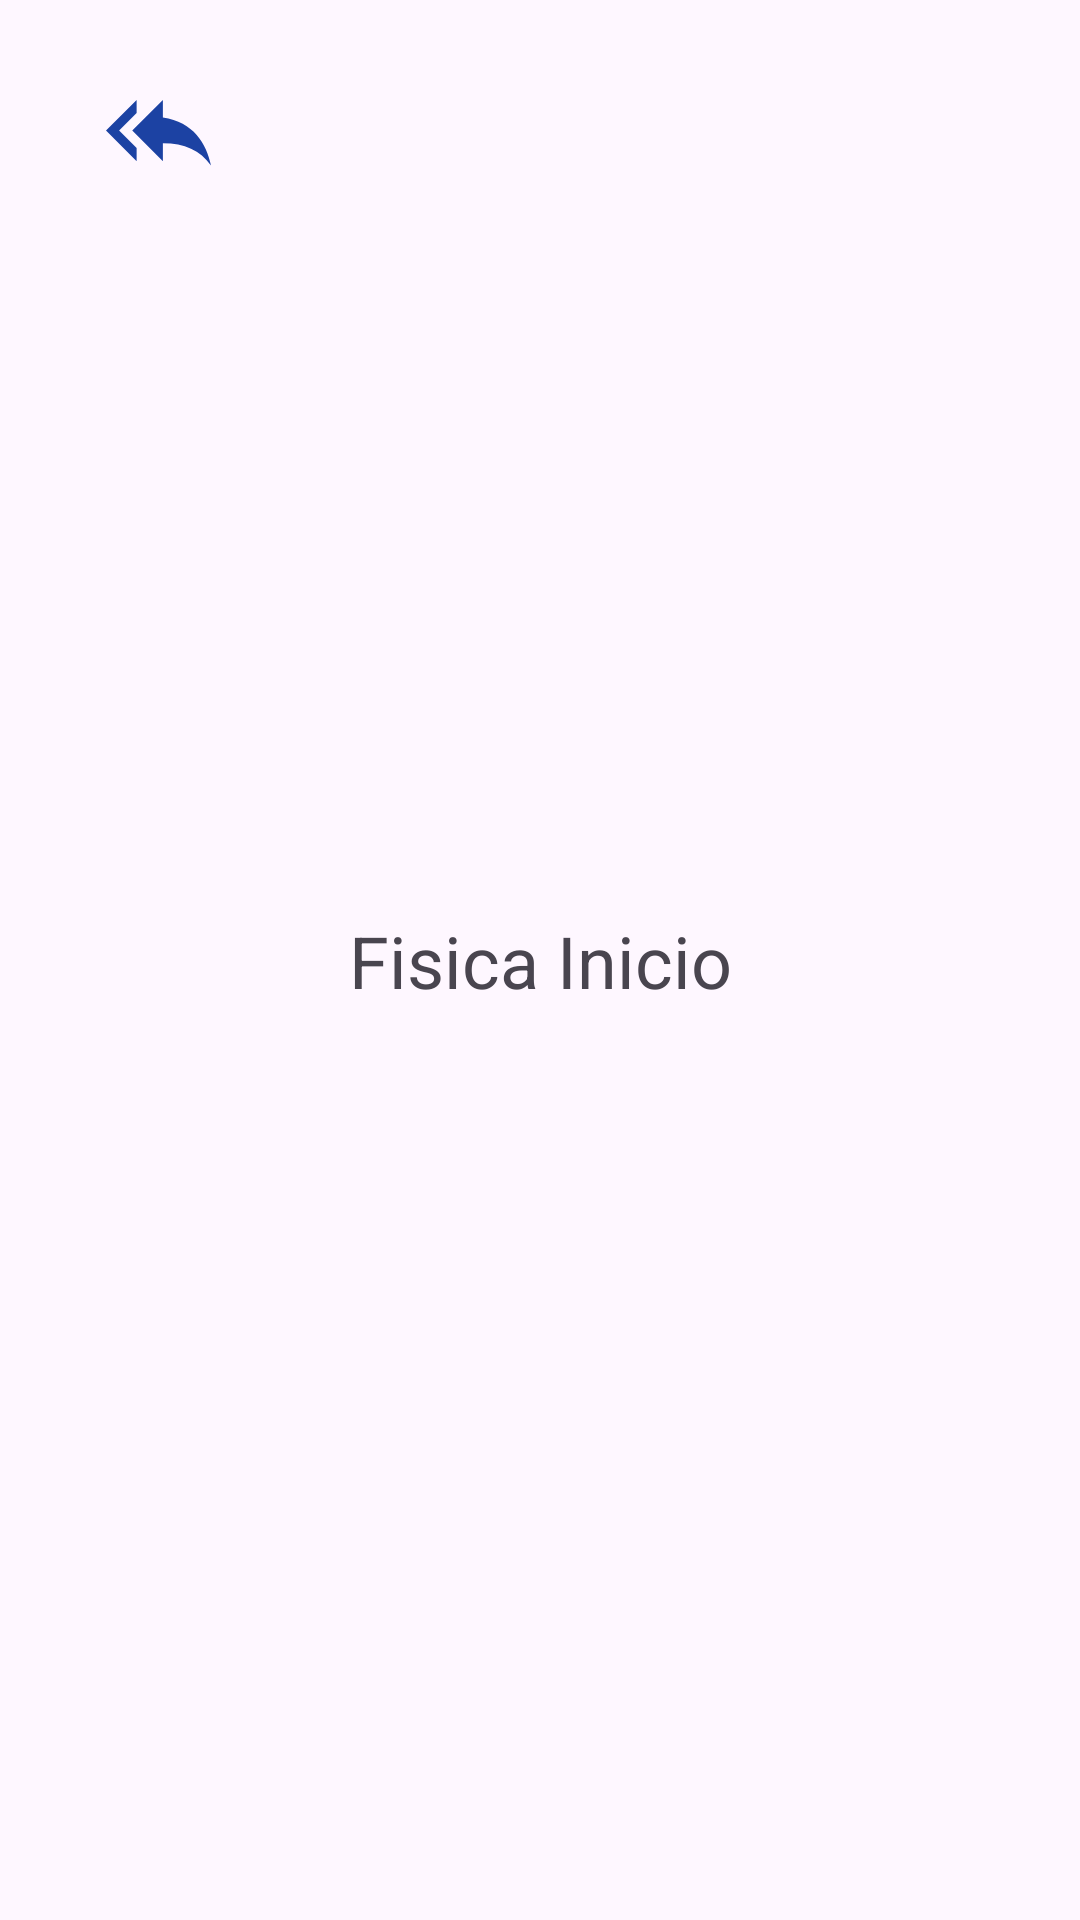

Where to tap for icons on this 1080px×1920px app screen, as (x,y):
backimage: (158,132)
